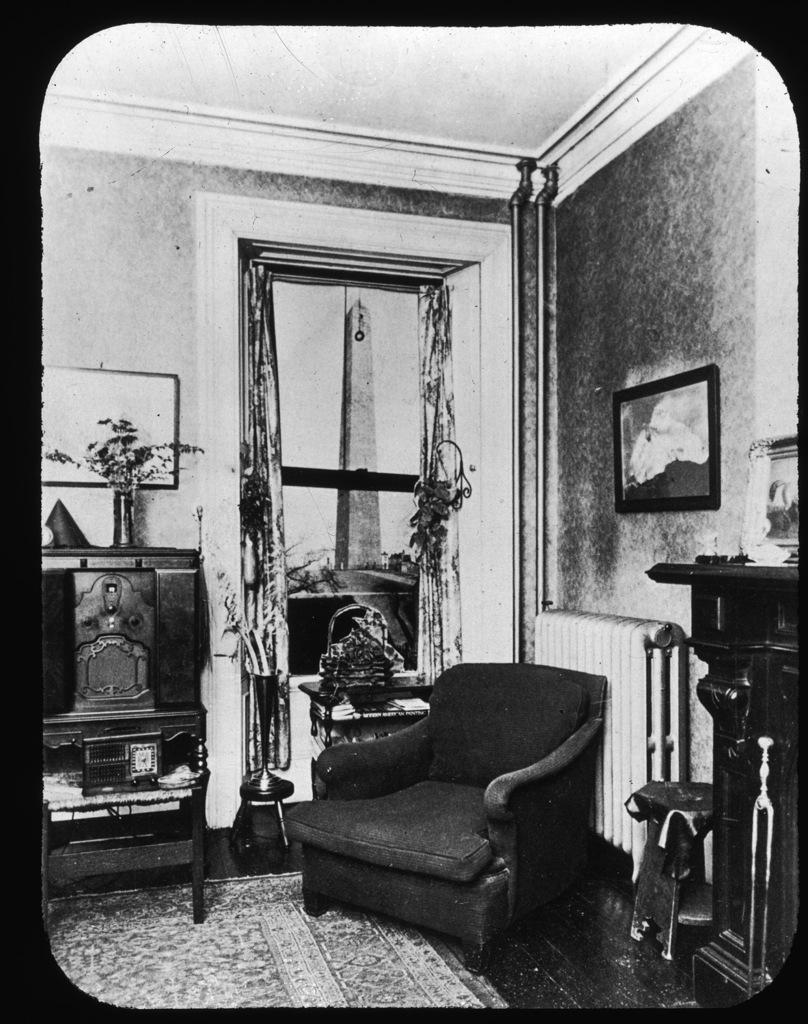Chair: (291, 653, 637, 978)
